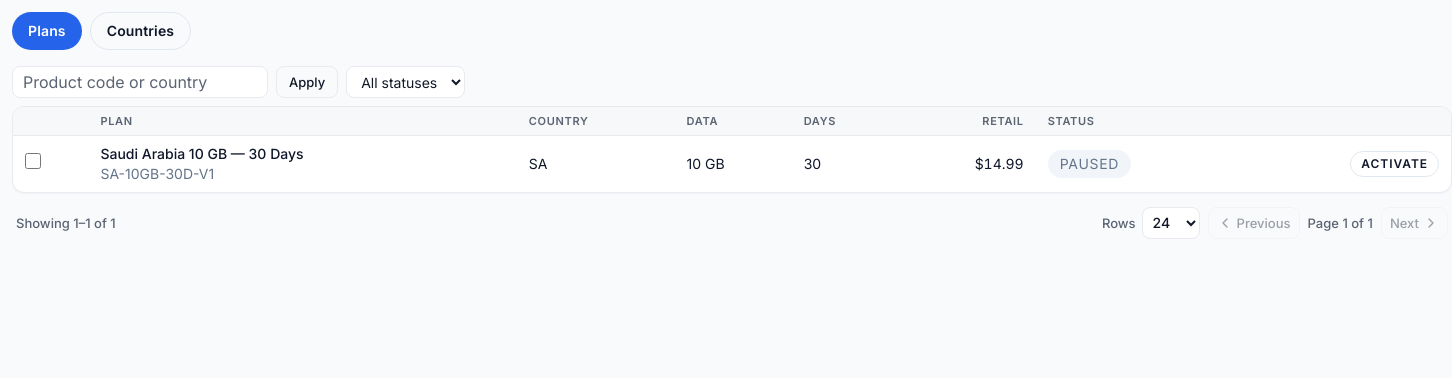
Test: bulk results › shows partial success and the reason each item refused
The width and height of the screenshot is (1452, 378).
Expected: the 1st text "Saudi Arabia 10 GB — 30 Days" is shown, [100,144,304,162]
Click the checkbox named "select sa-10gb" at [33, 161], box [25,153,41,169]
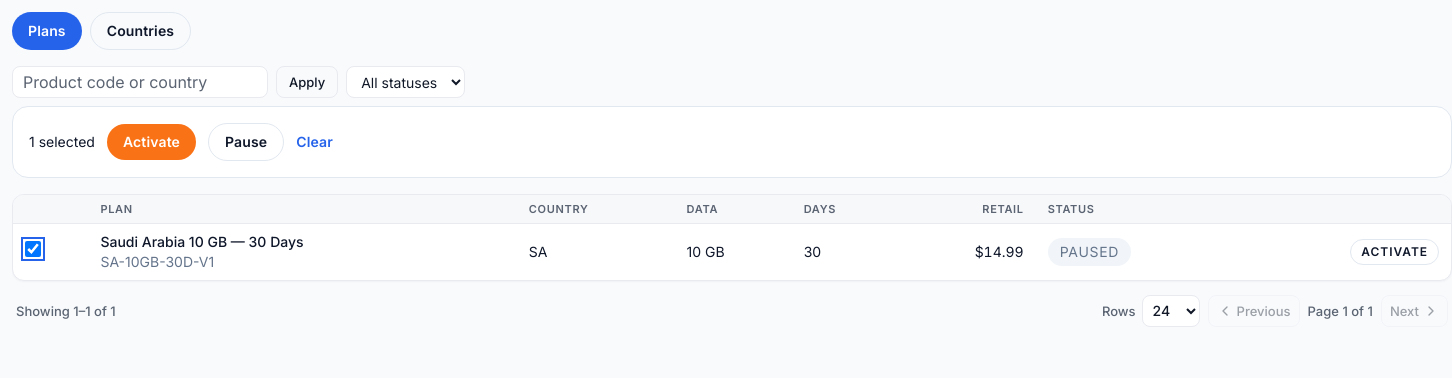
Click the 2nd button named "activate" at [151, 142], box [107,124,196,160]
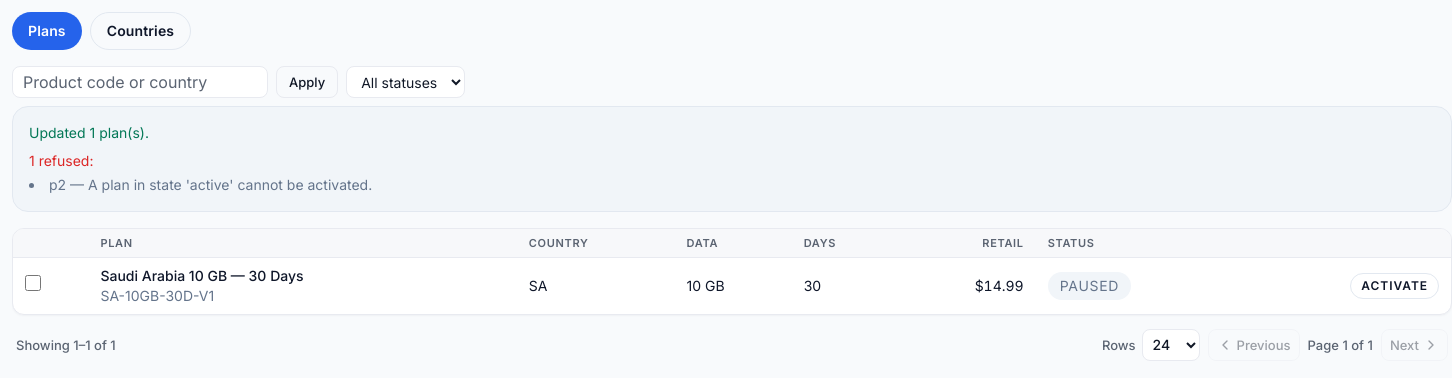
Now the 1st text "updated 1 plan" is shown, box [29,124,149,141]
Now the 2nd text "1 refused" is shown, box [29,152,94,169]
Now the list item "A plan in state 'active' cannot be activated." is shown, box [88,176,372,193]
